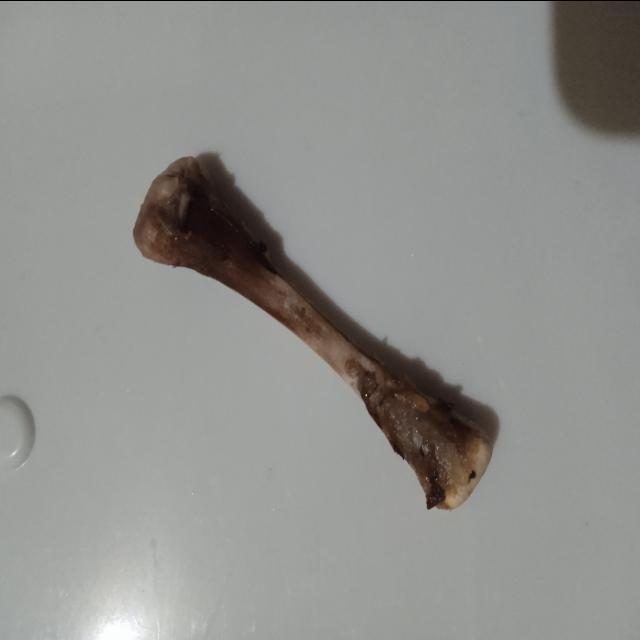bone: (124, 148, 501, 520)
